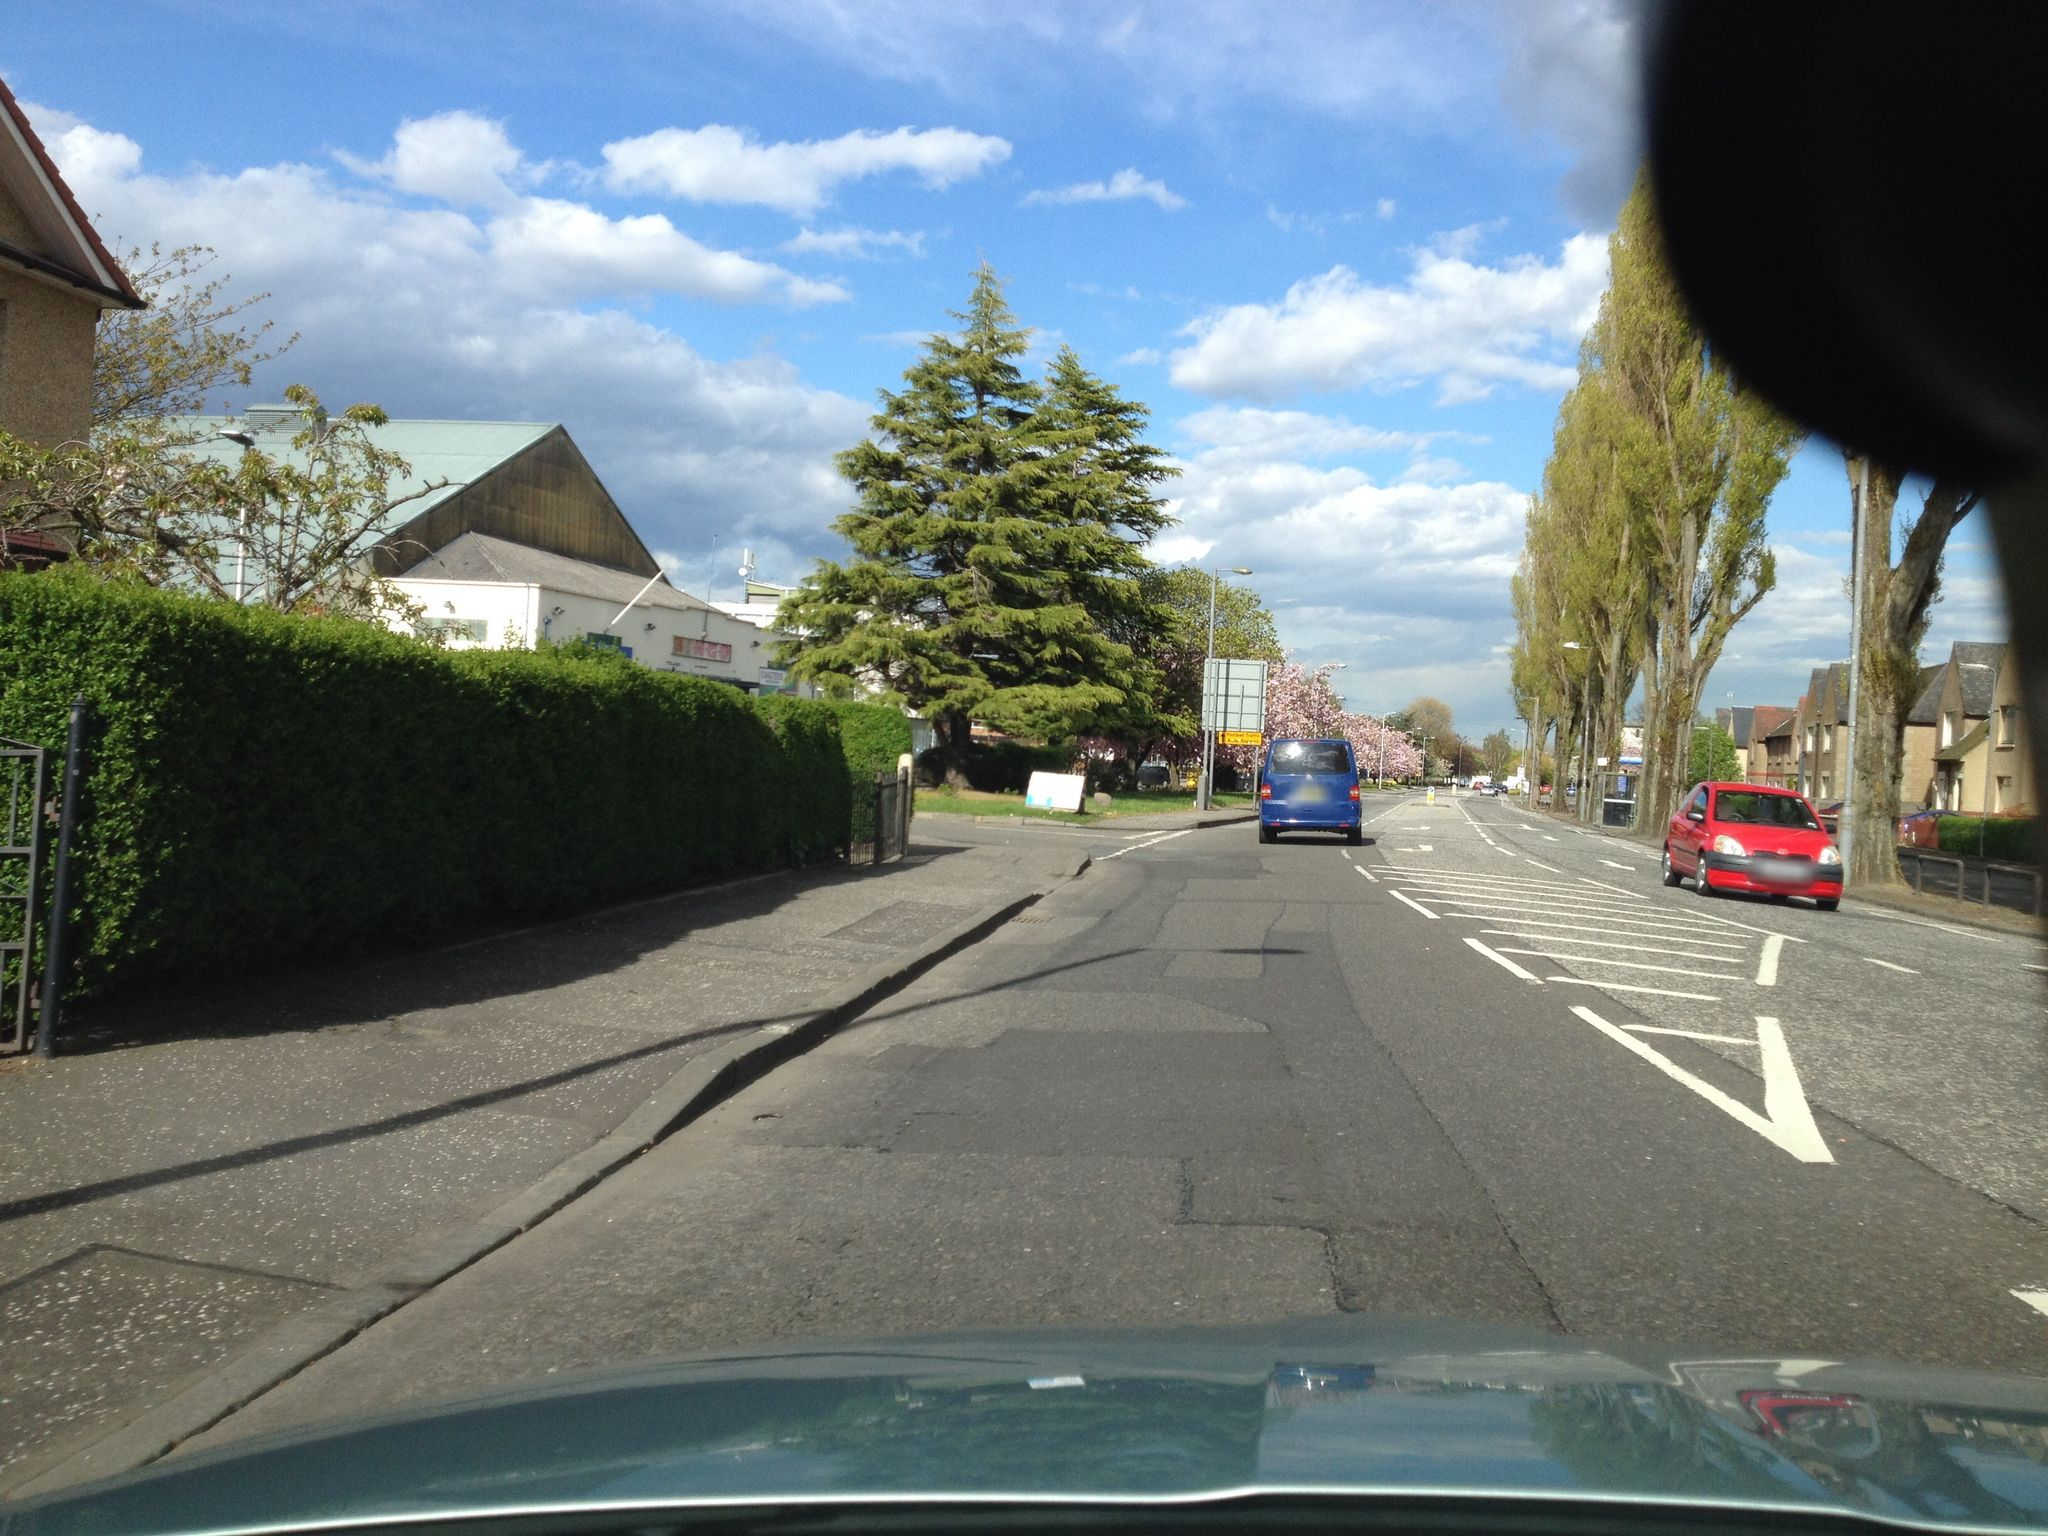car: (1659, 779, 1843, 912), (1255, 737, 1363, 845)
